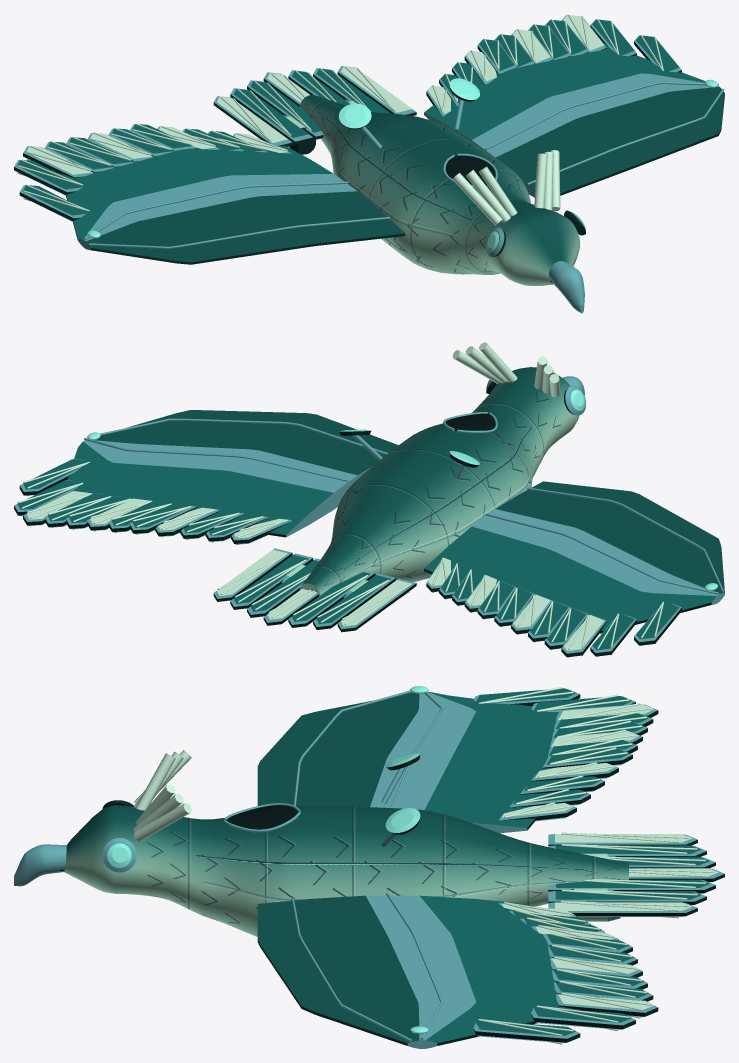
3 renders of one model, top to bottom at view 1: azimuth 30°, elevation 25°; view 2: azimuth 150°, elevation 25°; view 3: azimuth 270°, elevation 25°, orthographic. The views are drawn at different scales.
Parts seen in each view (by area): view 1: harpy_eagle_hull; view 2: harpy_eagle_hull; view 3: harpy_eagle_hull.
Part boxes in pixels (bbox=[...]): harpy_eagle_hull: bbox=[14, 14, 724, 313]; harpy_eagle_hull: bbox=[14, 342, 724, 657]; harpy_eagle_hull: bbox=[14, 686, 724, 1048].
Size of the model in its own units: 82 by 18.14 by 70.37.
Materials: 1 (1 with a texture image).
